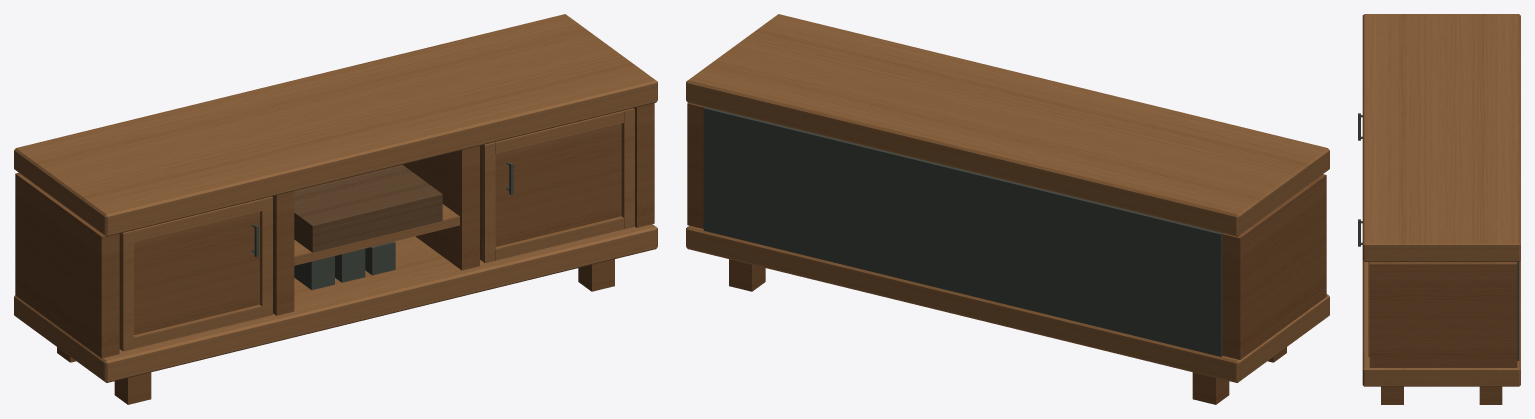
Rendered from tv_console.glb.
3 renders of one model, left to right at view 1: azimuth 30°, elevation 25°; view 2: azimuth 150°, elevation 25°; view 3: azimuth 270°, elevation 25°, orthographic. The views are drawn at different scales.
Visible parts, largest first — view 1: home_tv_console; view 2: home_tv_console; view 3: home_tv_console.
Part boxes in pixels (box(x1,y1,x2,y2)): home_tv_console: box(14, 14, 657, 404); home_tv_console: box(686, 14, 1329, 404); home_tv_console: box(1358, 14, 1520, 404).
Bounding box in the file's own units: 1.55 × 0.55 × 0.463.
Materials: 1 (1 with a texture image).
